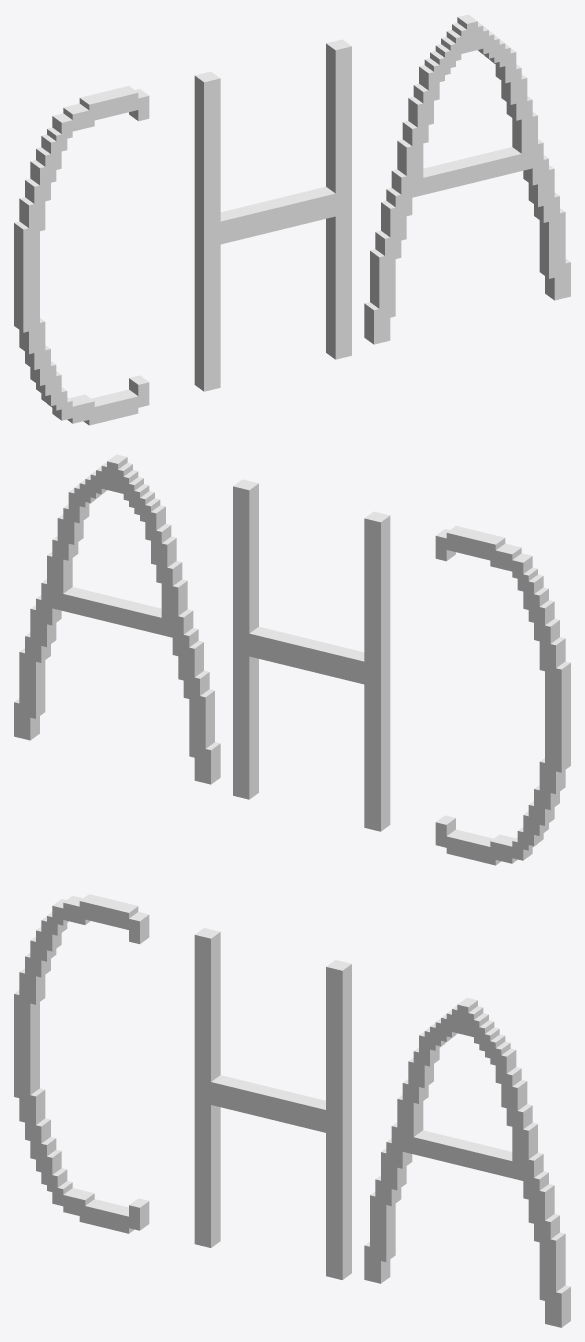
The model's file is ChaText.fbx.
3 renders of one model, top to bottom at view 1: azimuth 30°, elevation 25°; view 2: azimuth 150°, elevation 25°; view 3: azimuth 330°, elevation 25°, orthographic.
Parts seen in each view (by area): view 1: Cha_Text:Mesh; view 2: Cha_Text:Mesh; view 3: Cha_Text:Mesh.
Part boxes in pixels (x1,y1,x2,y2): Cha_Text:Mesh: [14, 14, 570, 425]; Cha_Text:Mesh: [14, 454, 570, 865]; Cha_Text:Mesh: [14, 894, 570, 1327].
Size of the model in its own units: 100 by 56 by 3.
1 material, 1 textured.
